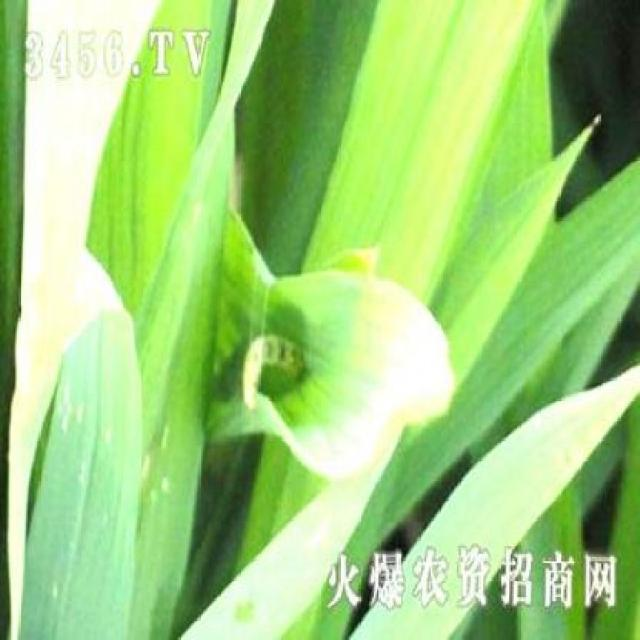leaf-folder: (230, 305, 336, 426)
